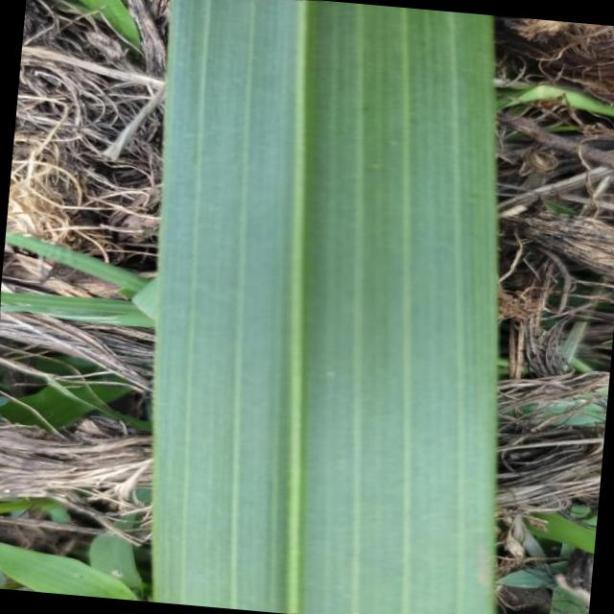Healthy: (152, 0, 494, 614)
